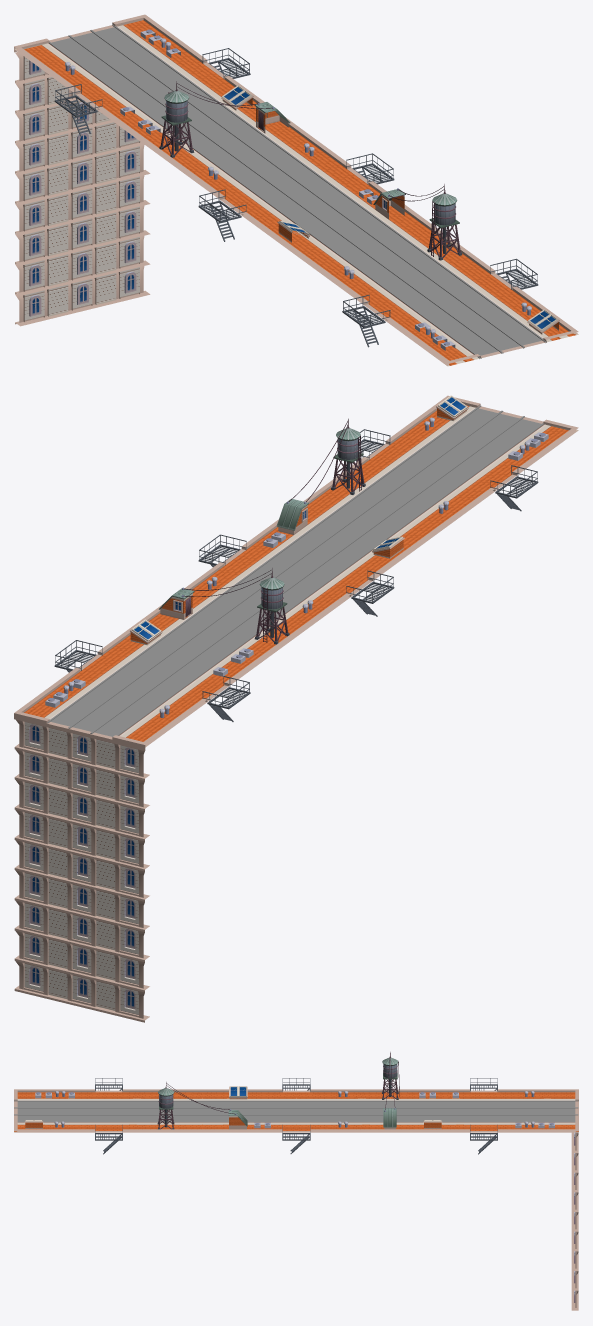
The model's file is Rooftop_Chunk_02.FBX.
3 renders of one model, top to bottom at view 1: azimuth 30°, elevation 25°; view 2: azimuth 150°, elevation 25°; view 3: azimuth 270°, elevation 25°, orthographic. The views are drawn at different scales.
Visible parts, largest first — view 1: Rooftop_Flat_Chunk_02, Rooftop_Flat_Road_Chunk_02, Rooftop_Flat_Front_Wall_Chunk_02; view 2: Rooftop_Flat_Chunk_02, Rooftop_Flat_Front_Wall_Chunk_02, Rooftop_Flat_Road_Chunk_02; view 3: Rooftop_Flat_Chunk_02, Rooftop_Flat_Road_Chunk_02, Rooftop_Flat_Front_Wall_Chunk_02.
Boxes of the visible parts, x1,y1,x2,y2 form: Rooftop_Flat_Chunk_02: [14, 14, 578, 366]; Rooftop_Flat_Road_Chunk_02: [49, 24, 546, 358]; Rooftop_Flat_Front_Wall_Chunk_02: [15, 52, 150, 326]; Rooftop_Flat_Chunk_02: [14, 395, 578, 750]; Rooftop_Flat_Front_Wall_Chunk_02: [14, 719, 149, 1022]; Rooftop_Flat_Road_Chunk_02: [47, 405, 543, 736]; Rooftop_Flat_Chunk_02: [14, 1052, 578, 1154]; Rooftop_Flat_Road_Chunk_02: [14, 1100, 578, 1122]; Rooftop_Flat_Front_Wall_Chunk_02: [571, 1132, 578, 1310].
Size of the model in its own units: 10446 by 19750 by 45000.
2 materials, 1 textured.
